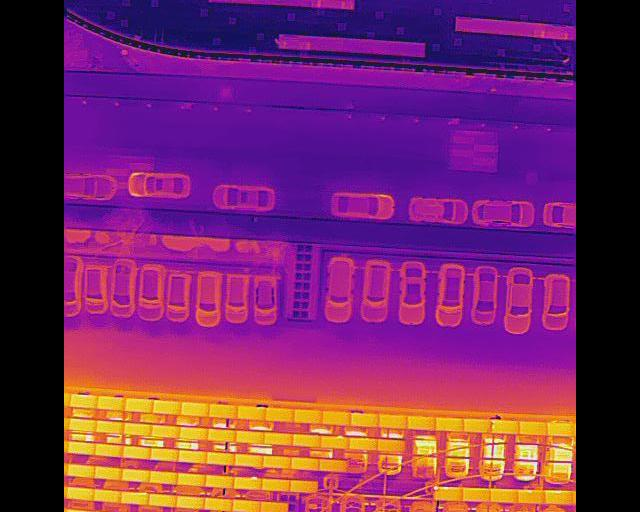Cell: (434, 485, 462, 499), (518, 489, 545, 502)
Cell-Multi: (490, 419, 519, 432)
No-Anomaly: (322, 410, 351, 424), (94, 465, 123, 479), (67, 486, 95, 500), (206, 474, 234, 488), (67, 463, 95, 477), (295, 408, 323, 422), (435, 416, 463, 430), (291, 456, 319, 470), (94, 443, 124, 456), (123, 467, 150, 481), (208, 403, 237, 416), (152, 400, 181, 413), (264, 431, 293, 444), (262, 455, 291, 468), (204, 496, 233, 509), (265, 407, 294, 420), (123, 422, 152, 435), (379, 414, 408, 427), (176, 495, 204, 508), (233, 499, 261, 512), (262, 478, 290, 491), (177, 472, 205, 485), (70, 393, 98, 406), (151, 447, 179, 460), (94, 488, 122, 501), (319, 457, 347, 470), (121, 491, 149, 504), (123, 445, 151, 458), (463, 487, 491, 500), (519, 420, 547, 433), (407, 415, 435, 428), (149, 493, 177, 506), (490, 488, 518, 501), (236, 453, 263, 466), (151, 470, 178, 483), (96, 420, 123, 433), (546, 422, 573, 435), (290, 479, 317, 492), (208, 428, 237, 440), (237, 406, 266, 418), (70, 417, 96, 430), (69, 441, 95, 454), (234, 476, 262, 488), (181, 402, 209, 414), (207, 451, 235, 463), (179, 450, 207, 462), (463, 418, 491, 430), (125, 398, 153, 410), (351, 412, 379, 424), (237, 430, 264, 442), (152, 424, 179, 436), (98, 396, 125, 408), (378, 438, 405, 450), (179, 426, 208, 437), (292, 434, 321, 445), (349, 437, 378, 448), (322, 435, 348, 447), (261, 501, 289, 512), (67, 508, 93, 512)
Unclassified: (545, 489, 573, 503)
